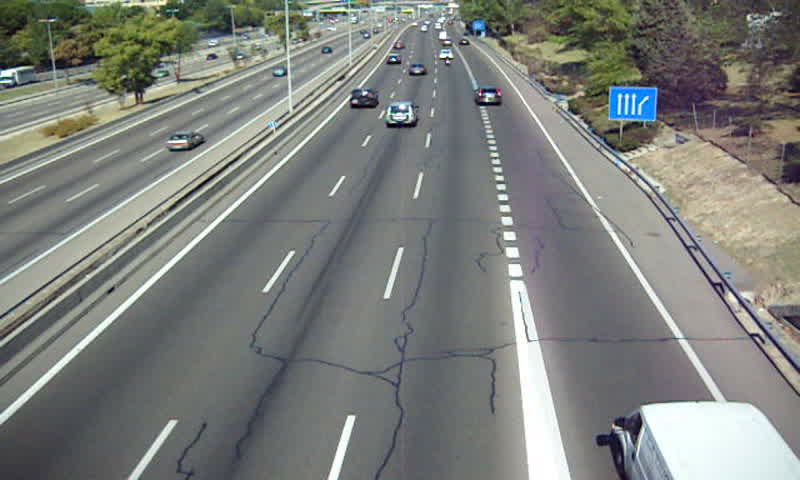car: (384, 101, 420, 127), (474, 85, 504, 106), (349, 88, 379, 109), (407, 62, 428, 78)
